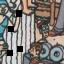waldo: (35, 19, 49, 38)
